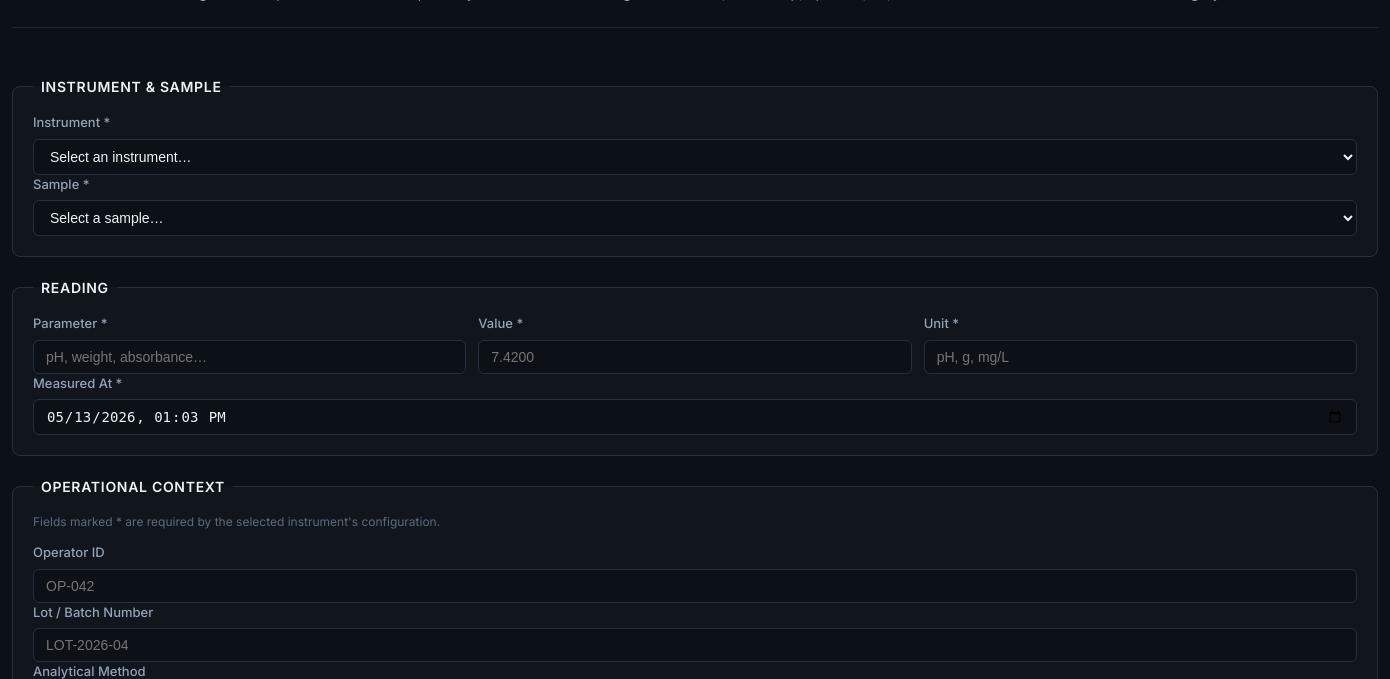
it: CaptureMeasurement page › shows dynamic required-field markers when instrument config requires them
The width and height of the screenshot is (1390, 679).
Wait for instrument list to load, then select instrument
Select "Balance (MT-001)" in the dropdown labelled "Instrument *": (695, 156) [33, 138, 1357, 174]
(page scrolled)
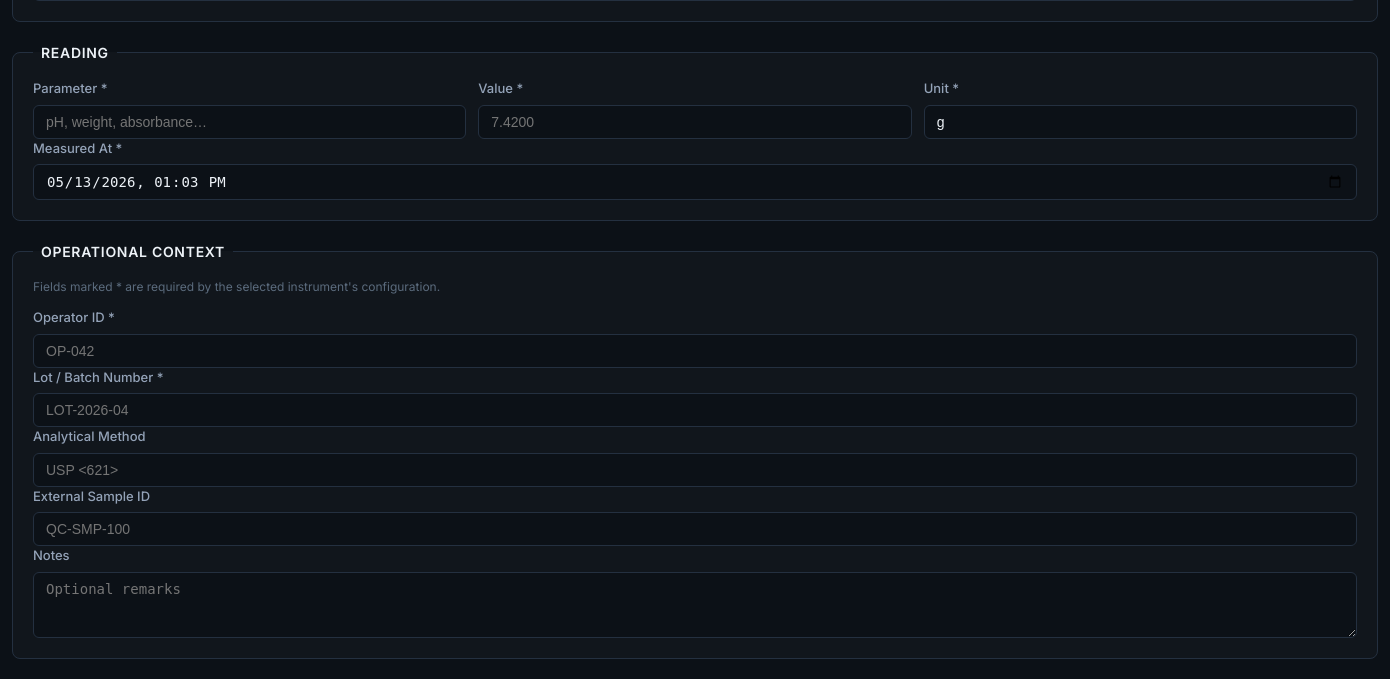
Check: the text "Operator ID *" is shown, box [33, 308, 1357, 368]
Check: the text "Lot / Batch Number *" is shown, box [33, 368, 1357, 427]
